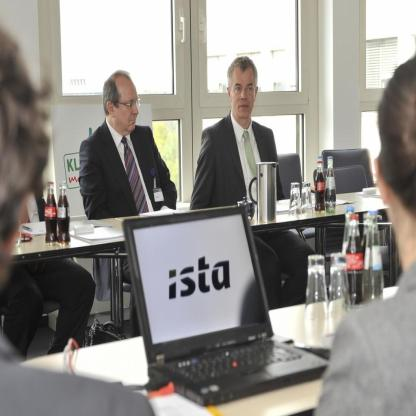board: (123, 203, 330, 404), (362, 210, 384, 302), (347, 215, 363, 305), (44, 182, 58, 244), (58, 182, 71, 245), (342, 206, 355, 255), (326, 154, 336, 212), (315, 160, 325, 210)
